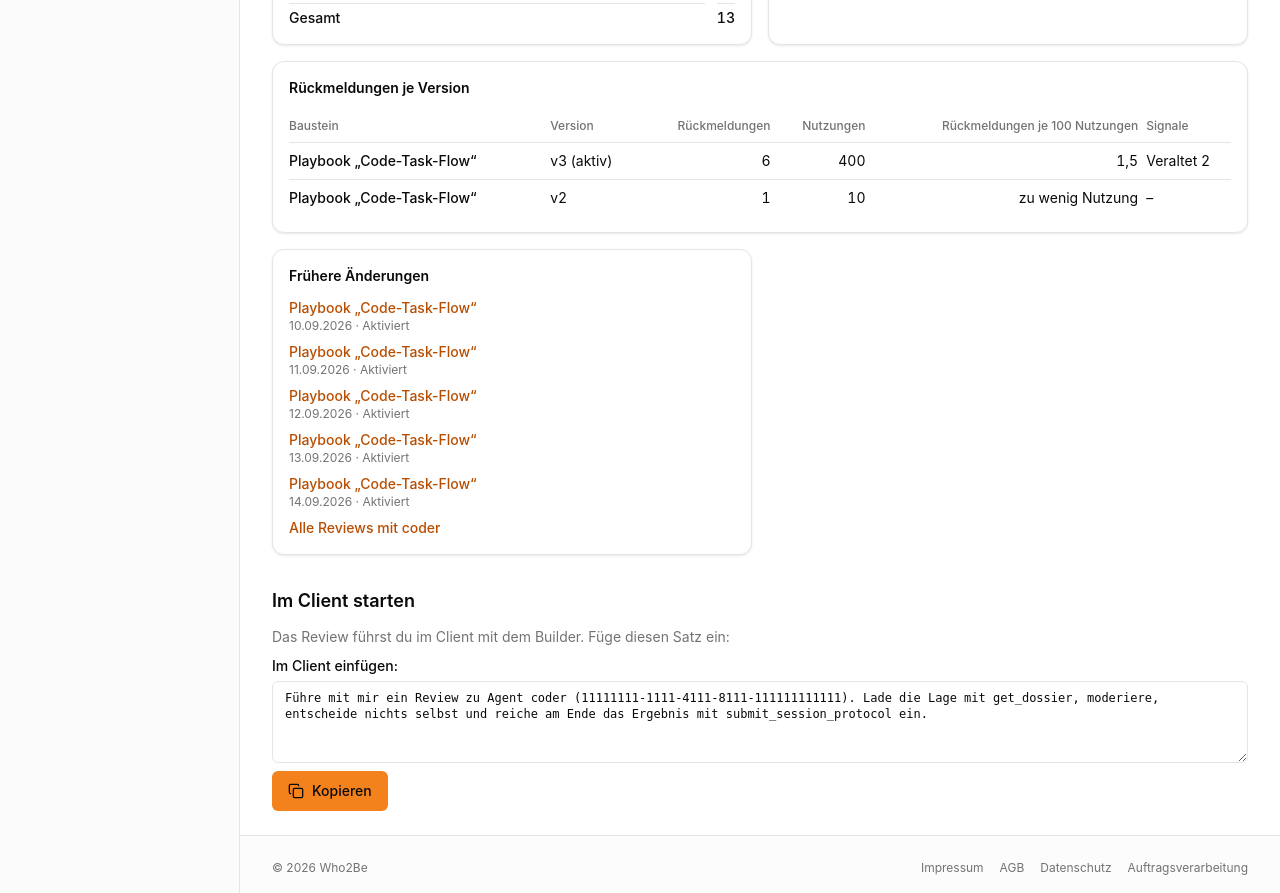
③ Startsatz › kopiert mit brand-Knopf und zeigt danach den Rueckweg
The image size is (1280, 893).
(page scrolled)
Click the button "Kopieren": click(330, 791) [272,771,388,811]
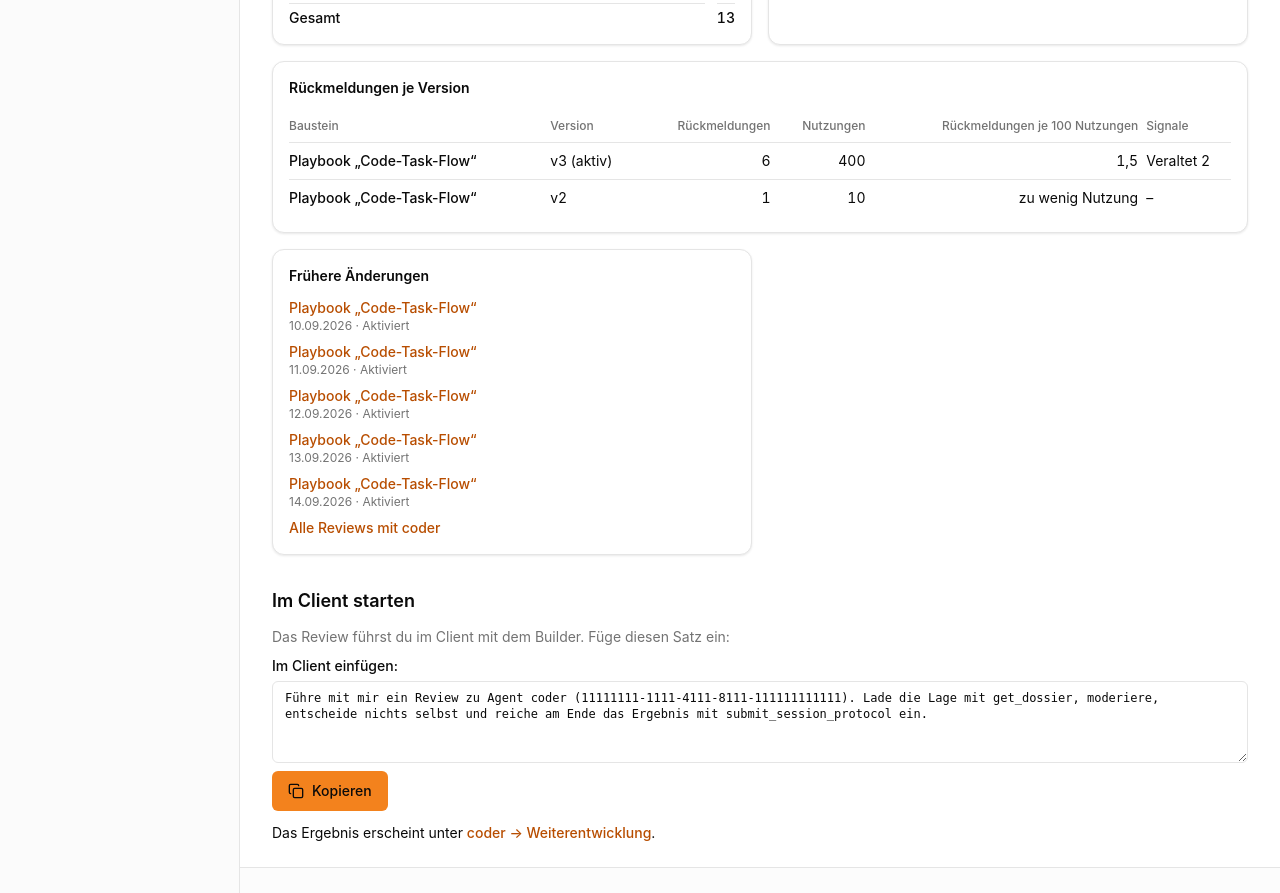
Result: the element with test id "prepare-after-copy" reads "Das Ergebnis erscheint unter coder → Weiterentwicklung ." at [272,824,655,841]
